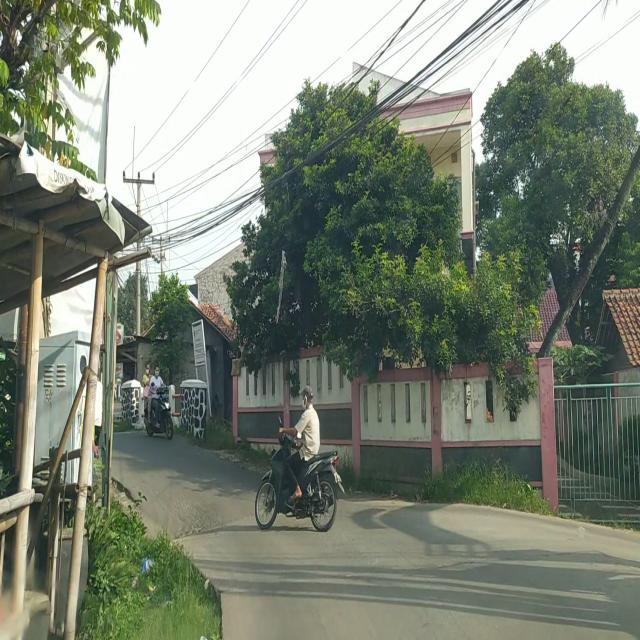Drain Hole: (173, 496, 220, 538)
